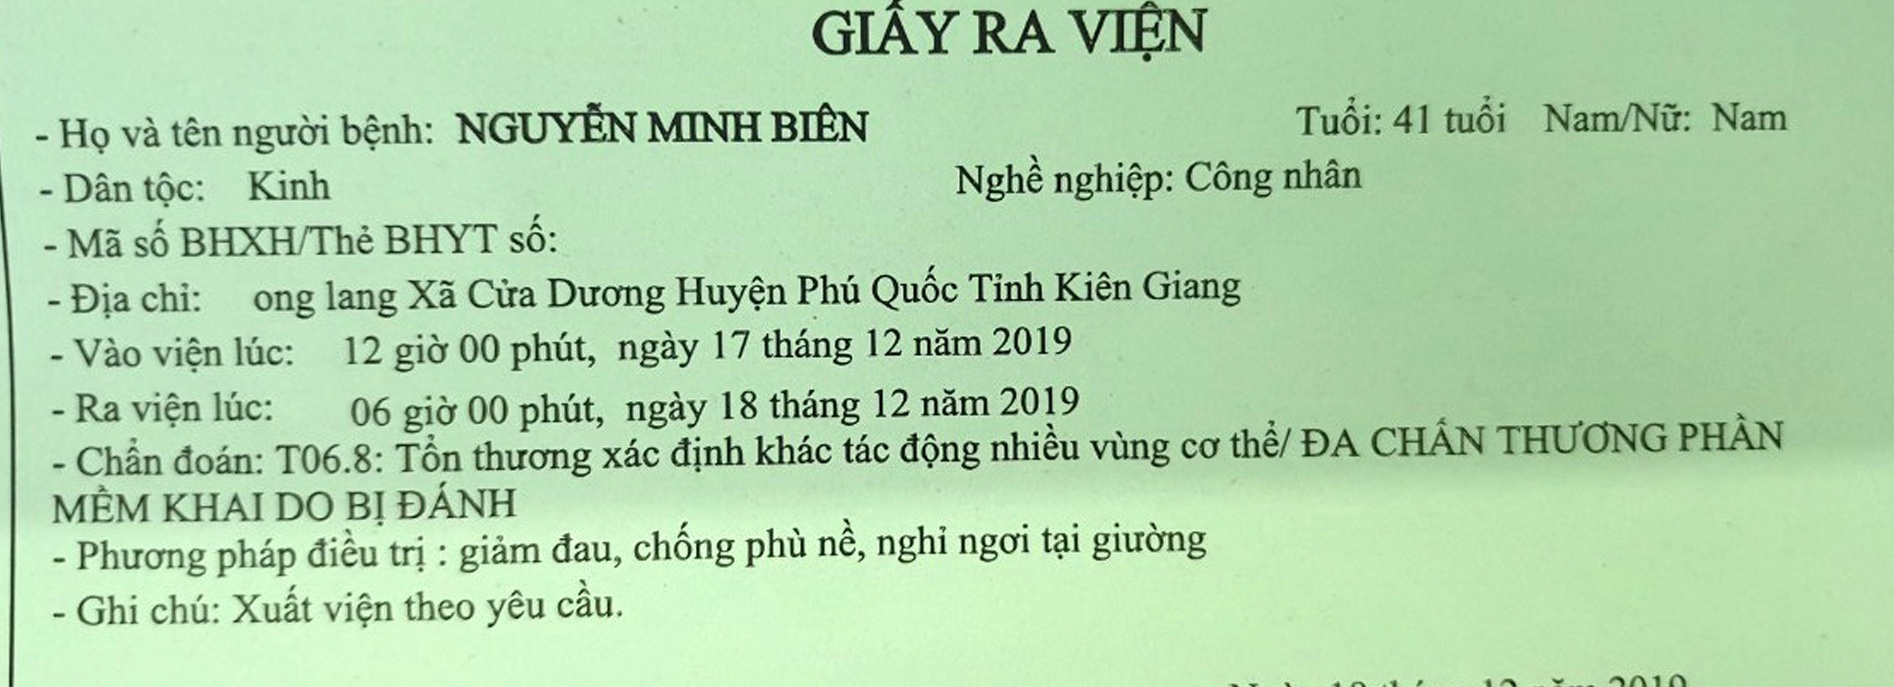add: (545, 270, 665, 314), (671, 270, 791, 314), (870, 264, 965, 314), (1142, 263, 1247, 308), (1050, 260, 1135, 305), (965, 260, 1044, 305), (245, 276, 323, 322), (465, 271, 538, 317), (322, 275, 400, 316), (795, 268, 863, 309), (401, 274, 464, 317)
birth: (1386, 89, 1515, 146)
come_time: (760, 323, 856, 368), (509, 326, 596, 372), (616, 321, 703, 367), (991, 317, 1077, 361), (911, 320, 983, 363), (390, 327, 451, 371), (453, 327, 503, 369), (341, 327, 389, 370), (708, 321, 755, 364), (866, 320, 908, 363)
diagnostic: (1495, 411, 1671, 461), (388, 475, 528, 528), (1368, 413, 1487, 464), (469, 438, 597, 484), (47, 481, 158, 532), (160, 480, 271, 531), (1676, 408, 1787, 459), (272, 439, 392, 479), (989, 422, 1082, 467), (1089, 424, 1172, 471), (1296, 417, 1365, 470), (1226, 416, 1295, 469), (898, 430, 982, 471), (392, 434, 470, 478), (664, 435, 750, 475), (750, 430, 836, 470), (273, 480, 338, 529), (337, 481, 389, 532), (596, 435, 661, 474), (839, 429, 894, 471), (1180, 422, 1223, 472)
job: (1182, 151, 1281, 202), (1282, 152, 1365, 202)
name: (453, 98, 642, 151), (646, 100, 765, 149), (768, 99, 875, 146)
nation: (230, 160, 341, 205)
note: (233, 582, 316, 627), (555, 580, 631, 625), (319, 585, 395, 630), (400, 585, 476, 630), (479, 584, 555, 629)
out_time: (768, 383, 864, 429), (520, 388, 606, 433), (623, 384, 709, 429), (996, 379, 1084, 419), (919, 379, 993, 421), (404, 391, 464, 434), (720, 383, 766, 430), (464, 390, 510, 434), (349, 389, 395, 431), (870, 381, 910, 426)
sex: (1699, 92, 1795, 137)
solution: (1091, 517, 1208, 567), (633, 521, 739, 568), (460, 530, 547, 573), (873, 518, 951, 566), (954, 516, 1032, 564), (550, 530, 629, 571), (743, 520, 810, 567), (809, 517, 870, 563), (1036, 515, 1086, 562)
